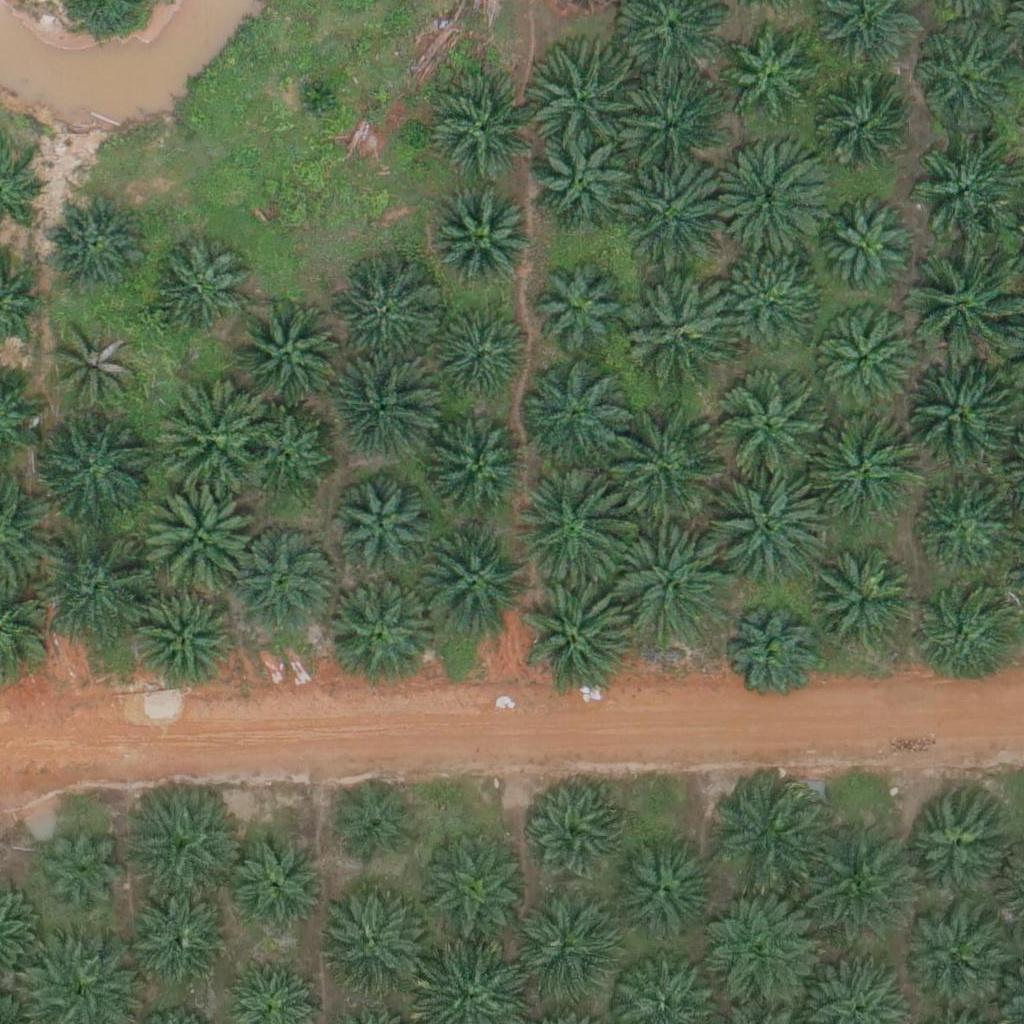Kelapa_Sawit: (904, 356, 1017, 470), (711, 140, 824, 254), (620, 156, 733, 270), (614, 533, 727, 647), (511, 473, 624, 587), (327, 574, 440, 688), (414, 526, 527, 640), (901, 898, 1014, 1011), (794, 834, 907, 947), (708, 783, 821, 896), (701, 900, 814, 1013), (309, 887, 422, 1000), (903, 250, 1016, 363), (806, 414, 919, 527), (716, 375, 829, 488), (625, 274, 738, 387), (326, 353, 439, 466), (899, 788, 1011, 902), (414, 832, 526, 946), (126, 781, 238, 895), (518, 357, 630, 471), (909, 129, 1021, 242), (808, 551, 920, 664), (718, 472, 830, 585), (607, 407, 719, 520), (523, 584, 635, 697), (529, 34, 641, 147), (231, 297, 343, 410), (154, 380, 266, 493), (141, 478, 253, 591), (43, 533, 155, 646), (39, 412, 151, 525), (617, 835, 717, 936), (128, 893, 228, 994), (912, 27, 1012, 128), (916, 480, 1016, 581), (913, 589, 1013, 690), (813, 312, 913, 413), (719, 27, 819, 128), (530, 262, 630, 363), (531, 132, 631, 233), (332, 483, 432, 584), (233, 527, 333, 628), (147, 238, 247, 339), (511, 899, 611, 999), (522, 782, 622, 882), (227, 828, 327, 928), (810, 86, 910, 186), (721, 259, 821, 359), (621, 75, 721, 175), (432, 83, 532, 183), (433, 192, 533, 292), (433, 308, 533, 408), (429, 424, 529, 524), (335, 268, 435, 368), (132, 590, 232, 690), (44, 193, 144, 293), (823, 206, 911, 295), (331, 778, 419, 866), (243, 411, 331, 499), (43, 826, 130, 914), (726, 613, 813, 701), (53, 324, 140, 412), (290, 70, 340, 121)
